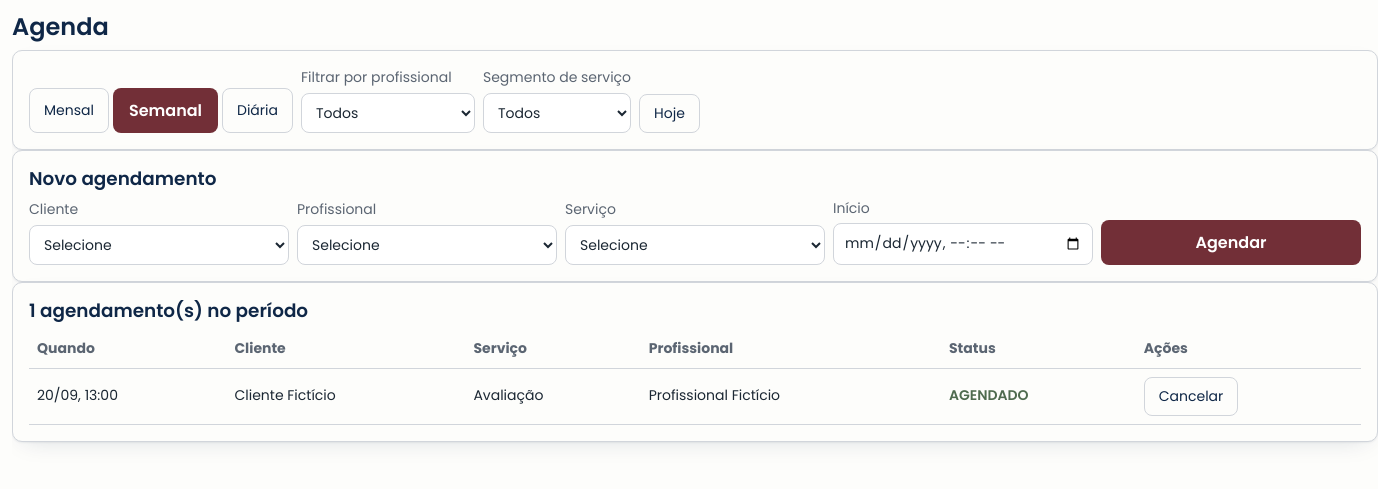
Test case: F-01 — criar agendamento com sucesso não pode ser reportado como falha › o caminho feliz avisa "Agendamento criado." e limpa o formulário
Check: the heading "Novo agendamento" is shown, box [29,166,216,191]
Select "Cliente Fictício" in the dropdown labelled "Cliente" at (159, 245), box [29,225,289,265]
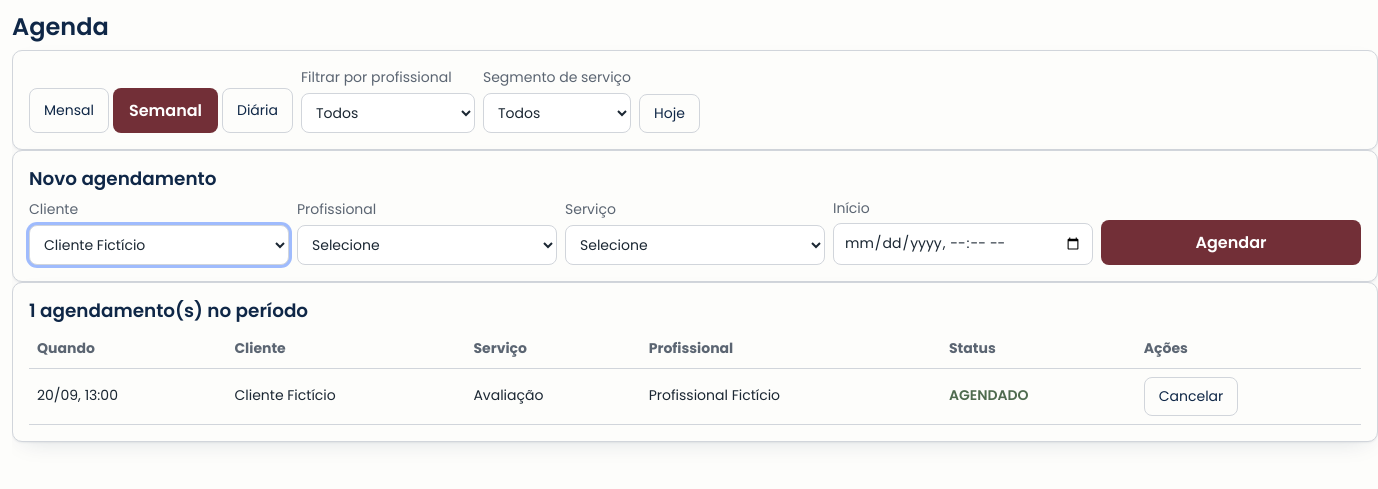
Select "Profissional Fictício" in the dropdown labelled "Profissional" at (427, 245), box [297,225,557,265]
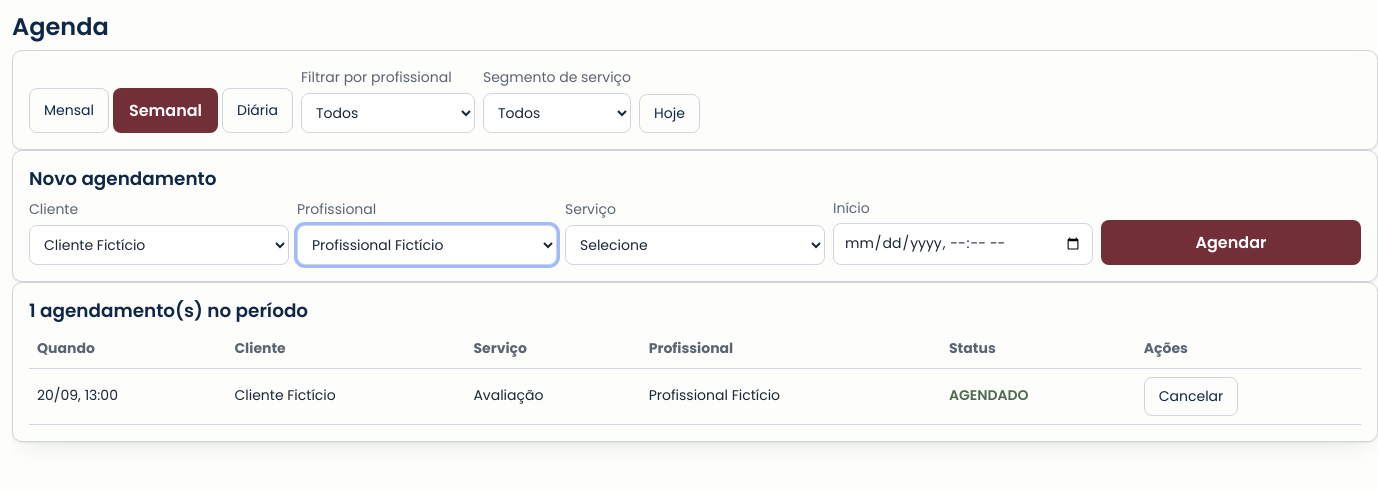
Select "Avaliação (60min)" in the dropdown labelled "Serviço" at (695, 245), box [565,225,825,265]
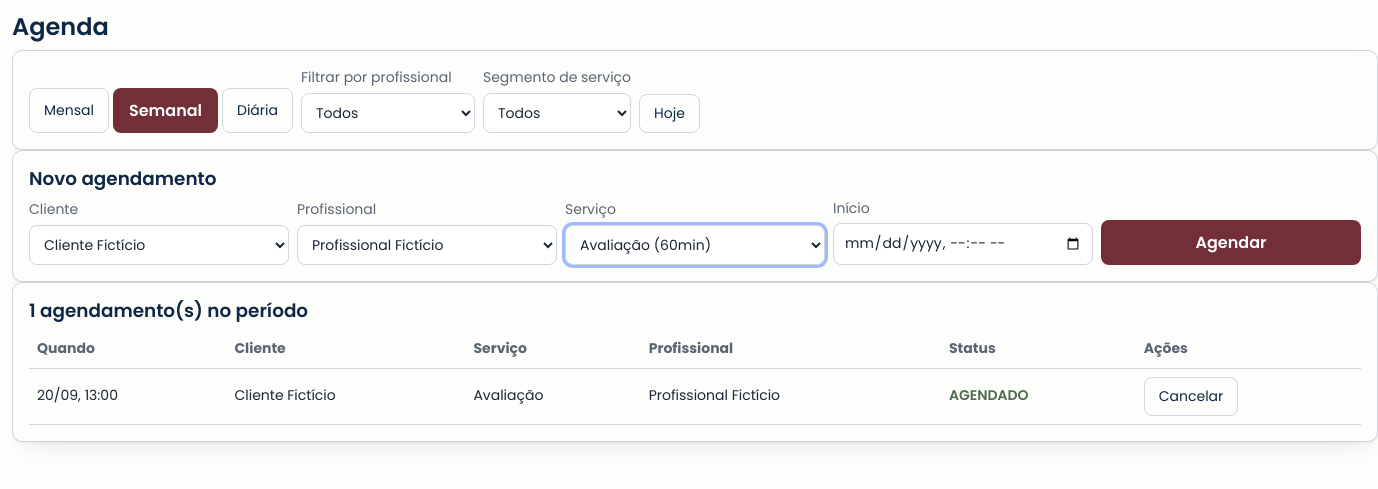
Type "2026-09-20T13:00" into the field labelled "Início" at (963, 244), box [833,223,1093,265]
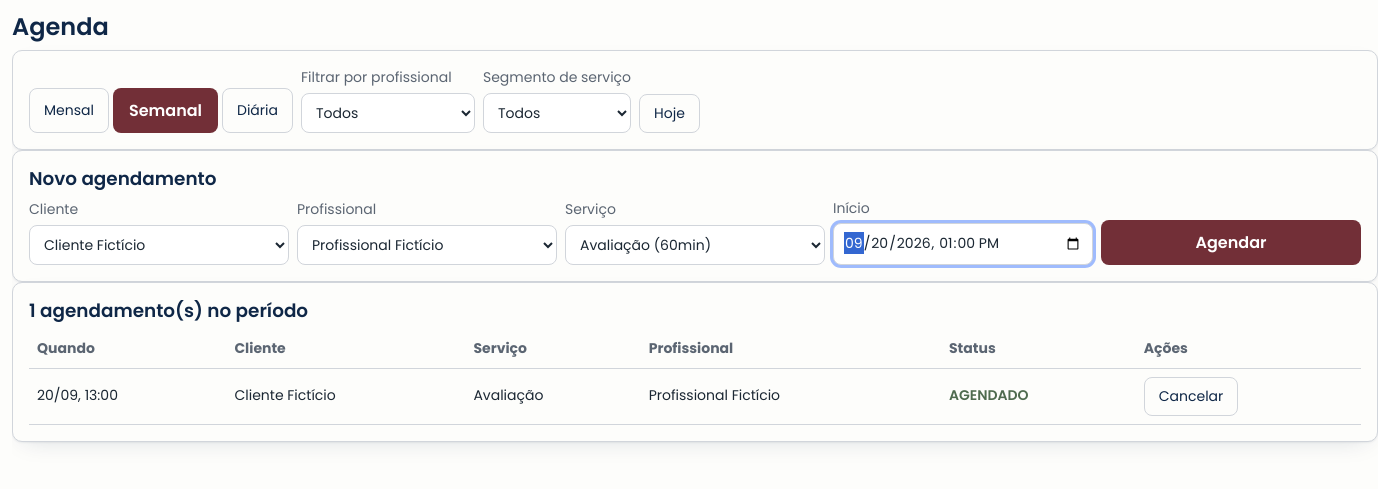
Click the button "Agendar" at (1231, 243), box [1101,220,1361,265]
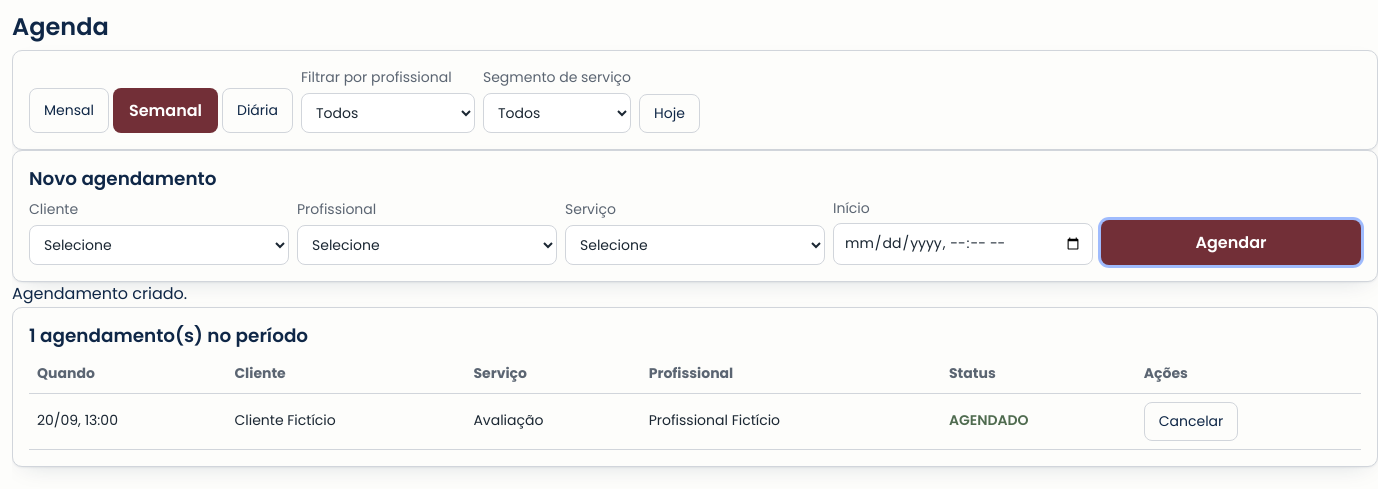
Check: the text "Agendamento criado." is shown, box [12,282,187,305]
